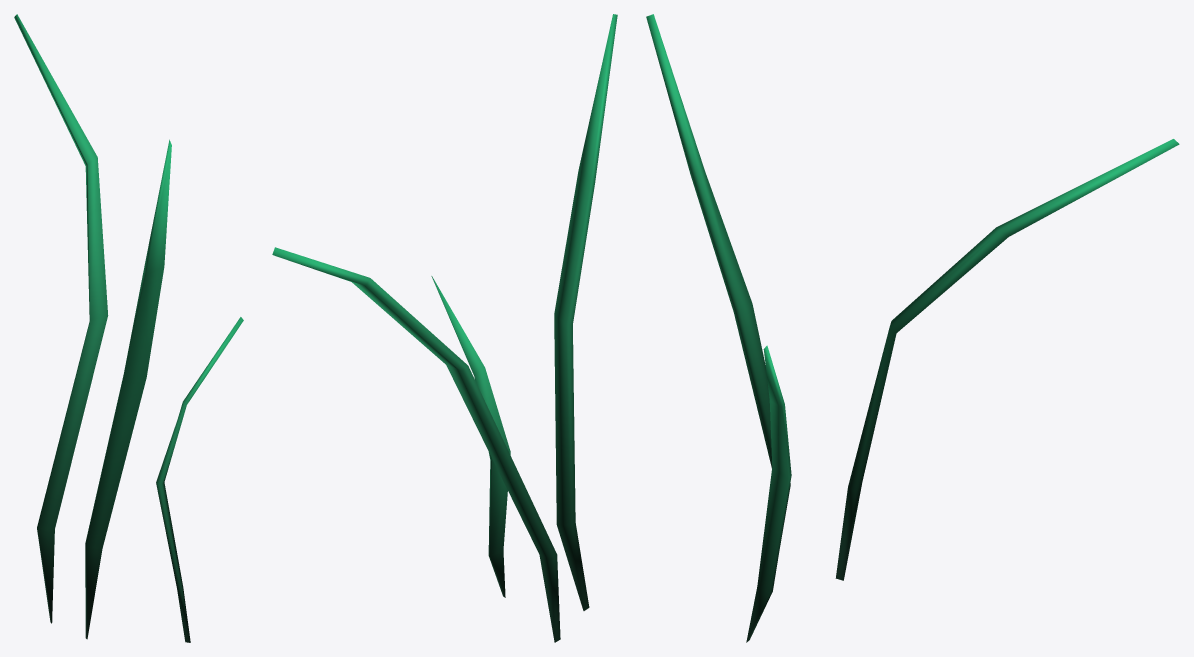
The model's file is grass3.fbx.
The picture shows the model from 3 angles, left to right: view 1: azimuth 30°, elevation 25°; view 2: azimuth 150°, elevation 25°; view 3: azimuth 270°, elevation 25°; orthographic projection. The views are drawn at different scales.
Parts seen in each view (by area): view 1: grass10; view 2: grass10; view 3: grass10.
Part boxes in pixels (x1,y1,x2,y2): grass10: (14,14,243,642); grass10: (272,14,617,642); grass10: (646,14,1179,642).
Bounding box in the file's own units: 27.92 × 89.59 × 72.81.
